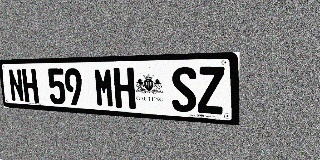5: (47, 68, 66, 105)
9: (64, 68, 84, 106)
H: (113, 68, 136, 109), (21, 69, 39, 103)
M: (94, 68, 115, 108)
N: (8, 69, 25, 102)
S: (171, 67, 197, 113)
Z: (197, 66, 224, 115)
